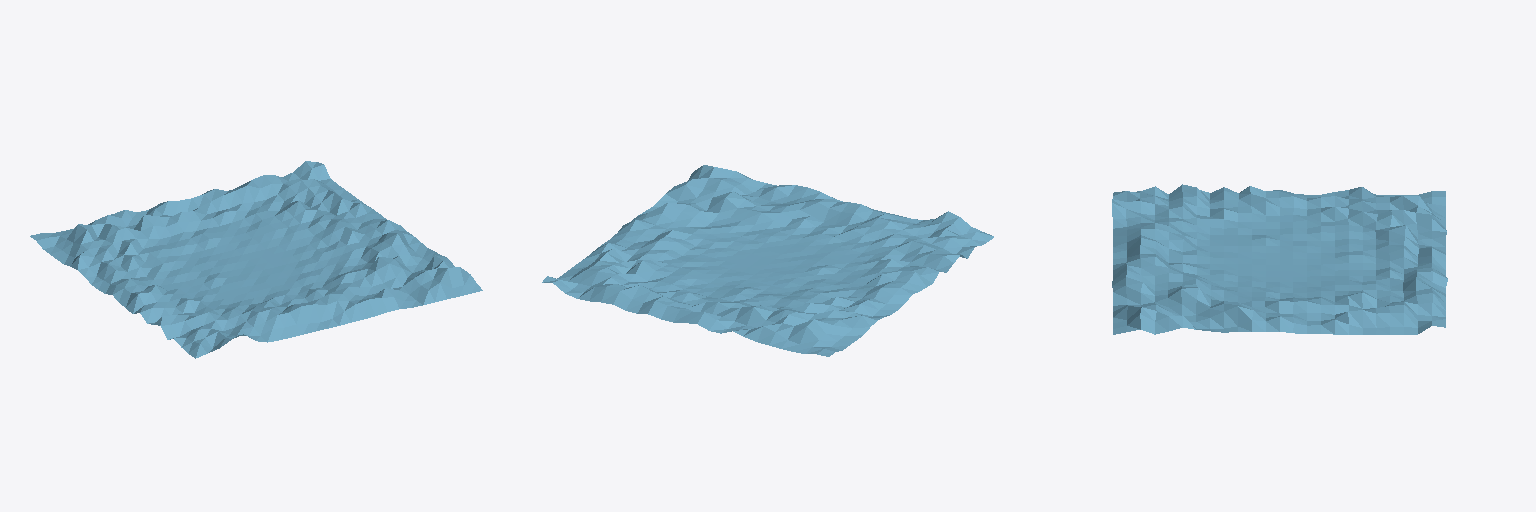
File: landscape.obj
3 renders of one model, left to right at view 1: azimuth 30°, elevation 25°; view 2: azimuth 150°, elevation 25°; view 3: azimuth 270°, elevation 25°, orthographic.
Visible parts, largest first — view 1: Plane003; view 2: Plane003; view 3: Plane003.
Boxes of the visible parts, <box> form: Plane003: <box>30,161,482,358</box>; Plane003: <box>542,165,993,356</box>; Plane003: <box>1112,184,1447,334</box>.
Bounding box in the file's own units: 93.04 × 5.46 × 93.49.